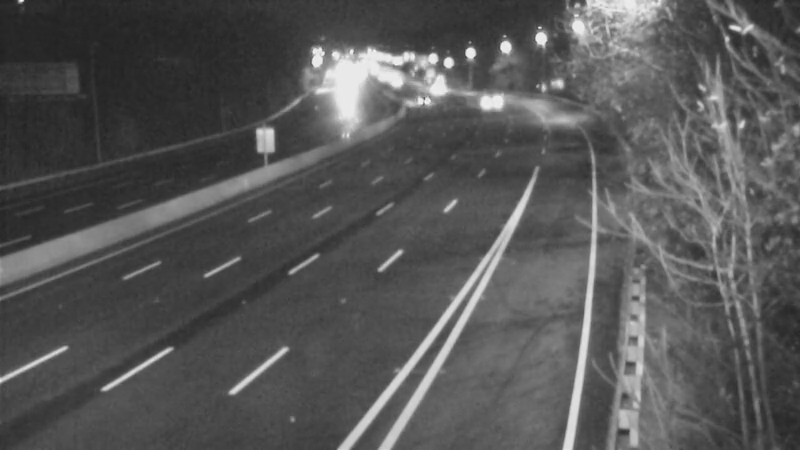vehicle: (413, 62, 463, 112), (393, 77, 443, 127), (460, 71, 510, 121)
